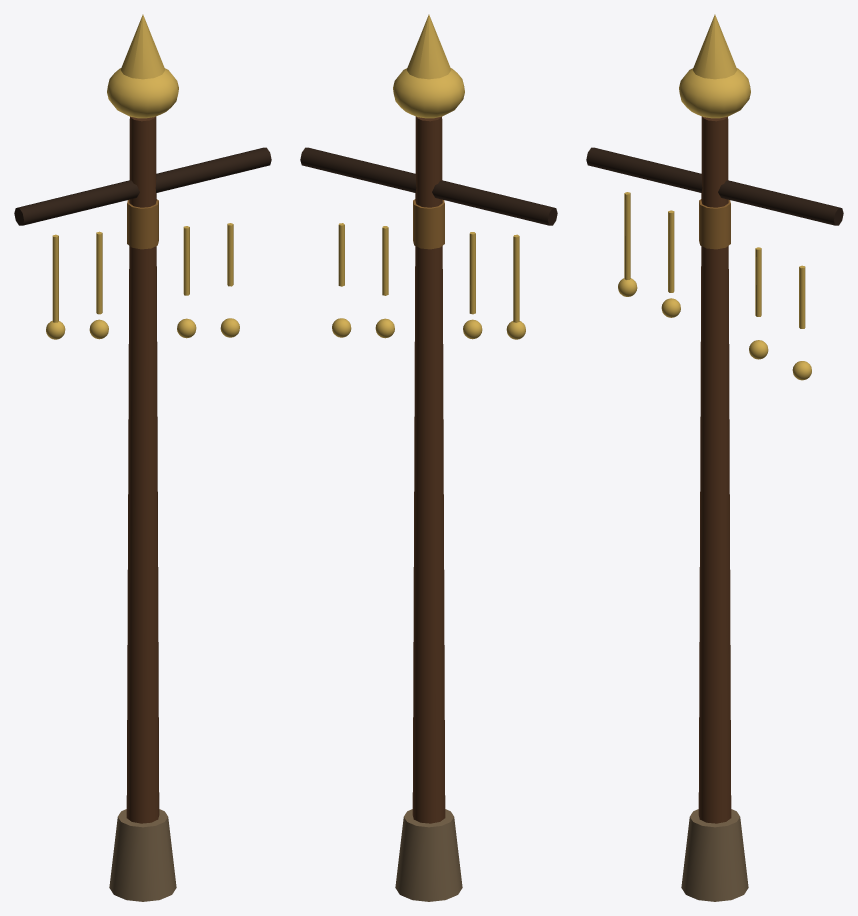
Rendered from standard-frame.glb.
The picture shows the model from 3 angles, left to right: view 1: azimuth 30°, elevation 25°; view 2: azimuth 150°, elevation 25°; view 3: azimuth 330°, elevation 25°; orthographic projection.
Parts seen in each view (by area): view 1: standard_pole, stone_socket, banner_crossbar, sun_finial, spear_finial, upper_ring, small_tassel_0, small_tassel_1; view 2: standard_pole, stone_socket, banner_crossbar, sun_finial, spear_finial, upper_ring, small_tassel_0, small_tassel_1; view 3: standard_pole, stone_socket, banner_crossbar, sun_finial, spear_finial, upper_ring, small_tassel_0, small_tassel_1.
Boxes of the visible parts, <box> form: standard_pole: <box>126,116,159,823</box>; stone_socket: <box>109,809,176,901</box>; banner_crossbar: <box>14,147,271,225</box>; sun_finial: <box>107,68,178,118</box>; spear_finial: <box>120,14,165,79</box>; upper_ring: <box>127,199,158,249</box>; small_tassel_0: <box>52,234,58,322</box>; small_tassel_1: <box>96,231,102,314</box>; standard_pole: <box>412,116,445,823</box>; stone_socket: <box>395,809,462,901</box>; banner_crossbar: <box>300,147,557,225</box>; sun_finial: <box>393,68,464,118</box>; spear_finial: <box>406,14,451,79</box>; upper_ring: <box>413,199,444,249</box>; small_tassel_0: <box>513,234,519,322</box>; small_tassel_1: <box>469,232,475,314</box>; standard_pole: <box>698,116,731,823</box>; stone_socket: <box>681,809,748,901</box>; banner_crossbar: <box>586,147,843,225</box>; sun_finial: <box>679,68,750,118</box>; spear_finial: <box>692,14,737,79</box>; upper_ring: <box>699,199,730,249</box>; small_tassel_0: <box>624,192,630,279</box>; small_tassel_1: <box>668,210,674,292</box>.
Size of the model in its own units: 1.02 by 3.44 by 0.26.
